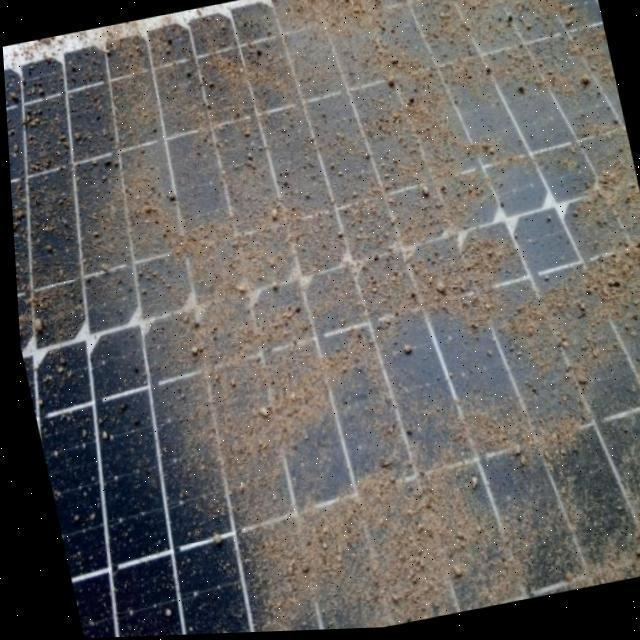Anomaly Solar Panel: (0, 0, 640, 640)
Surface Contaminant: (2, 0, 640, 639)
